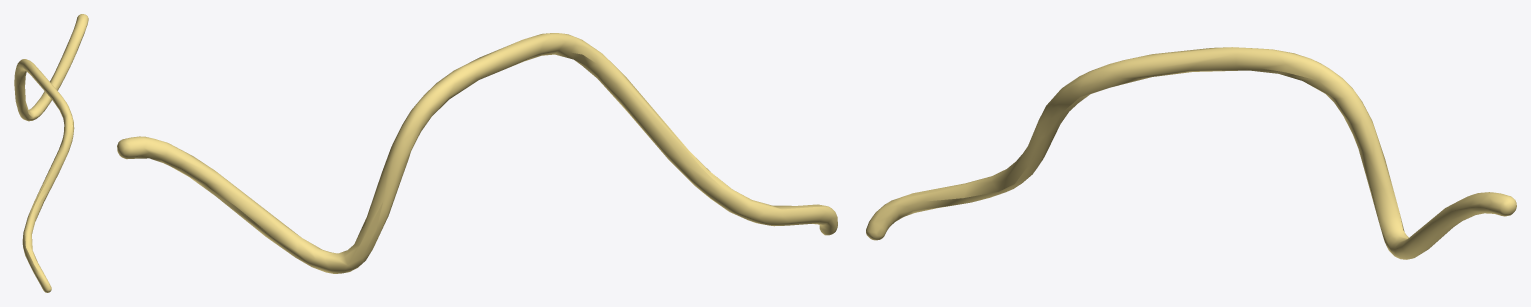
File: fma52677_fj3908.glb
The picture shows the model from 3 angles, left to right: view 1: azimuth 30°, elevation 25°; view 2: azimuth 150°, elevation 25°; view 3: azimuth 270°, elevation 25°; orthographic projection. The views are drawn at different scales.
Parts seen in each view (by area): view 1: FMA52677_FJ3908; view 2: FMA52677_FJ3908; view 3: FMA52677_FJ3908.
Part boxes in pixels (bbox=[...]): FMA52677_FJ3908: bbox=[14, 14, 88, 292]; FMA52677_FJ3908: bbox=[117, 33, 837, 273]; FMA52677_FJ3908: bbox=[866, 47, 1516, 259].
Bounding box in the file's own units: 0.0156 × 0.00992 × 0.0216.
